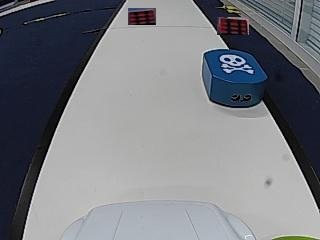danger: (219, 53, 252, 74)
